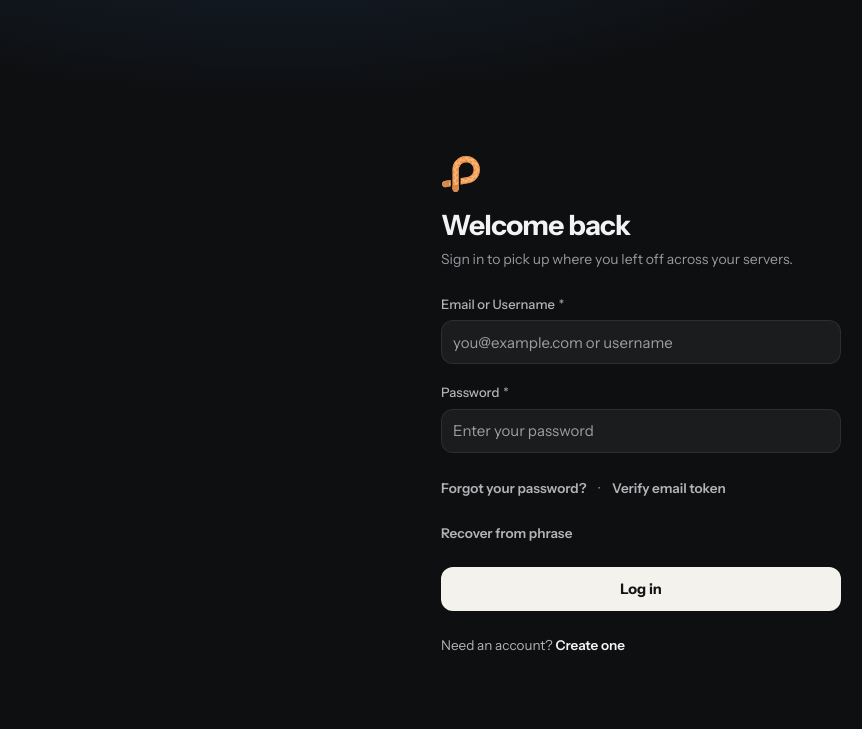
LoginPage password reset and MFA flows › blocks reset submission when password confirmation does not match
This screenshot has width=862, height=729.
Click the button "Forgot your password?": (514, 488) [441, 478, 587, 498]
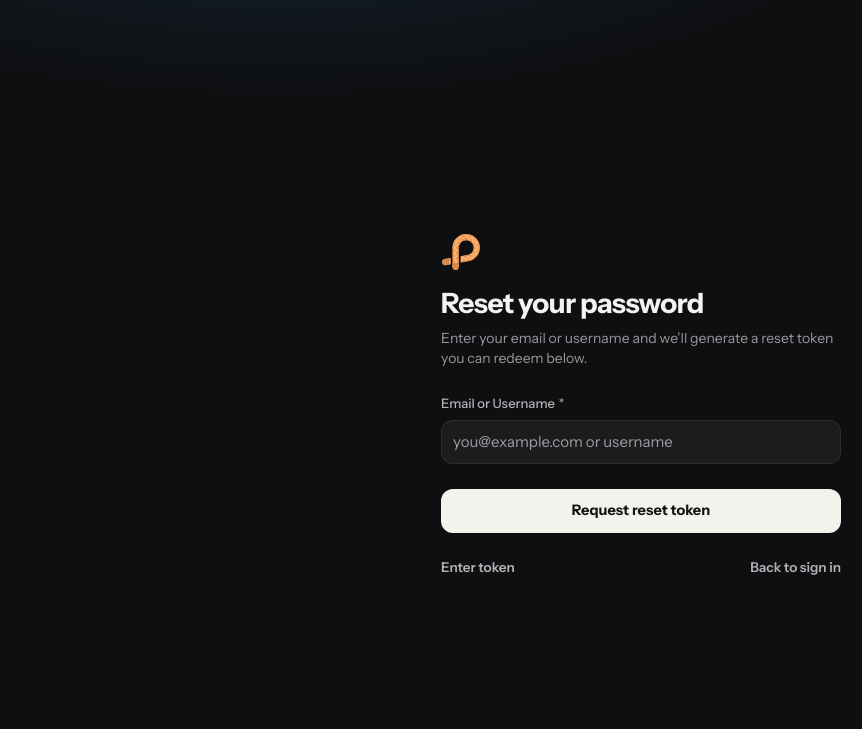
Click the button "Enter token": (478, 567) [441, 557, 515, 578]
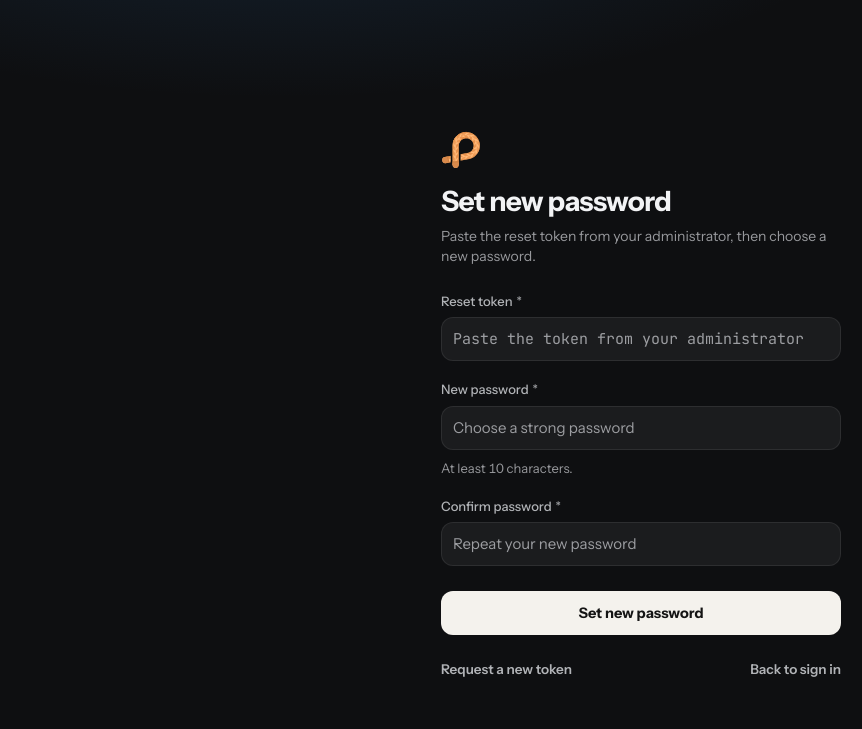
In the field labelled "Reset token *": (641, 339) [441, 317, 841, 361], type "reset-token"
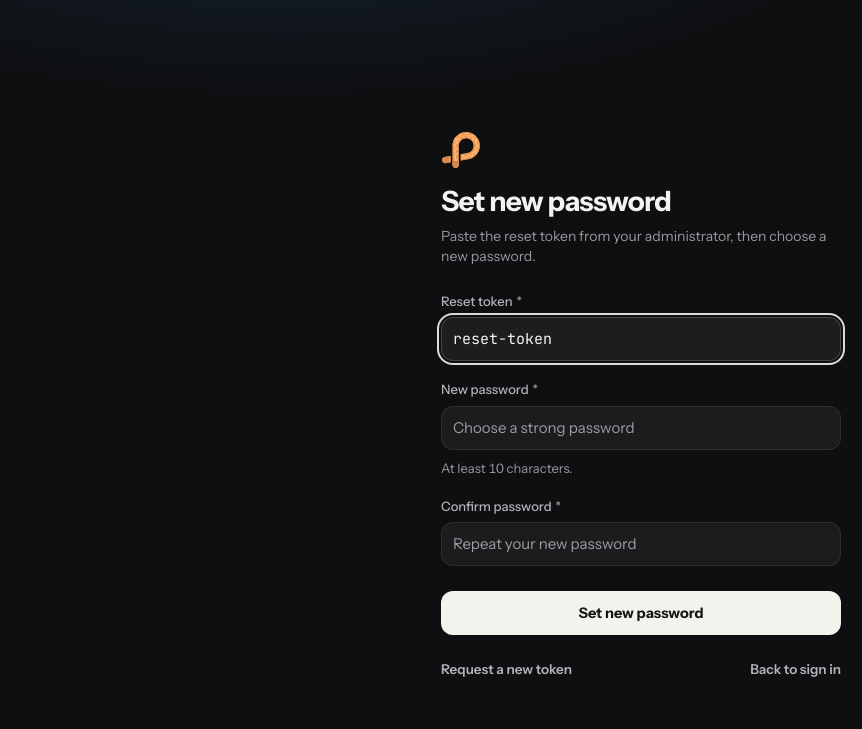
In the password field labelled "New password *": (641, 428) [441, 406, 841, 450], type "NewPassword123!"
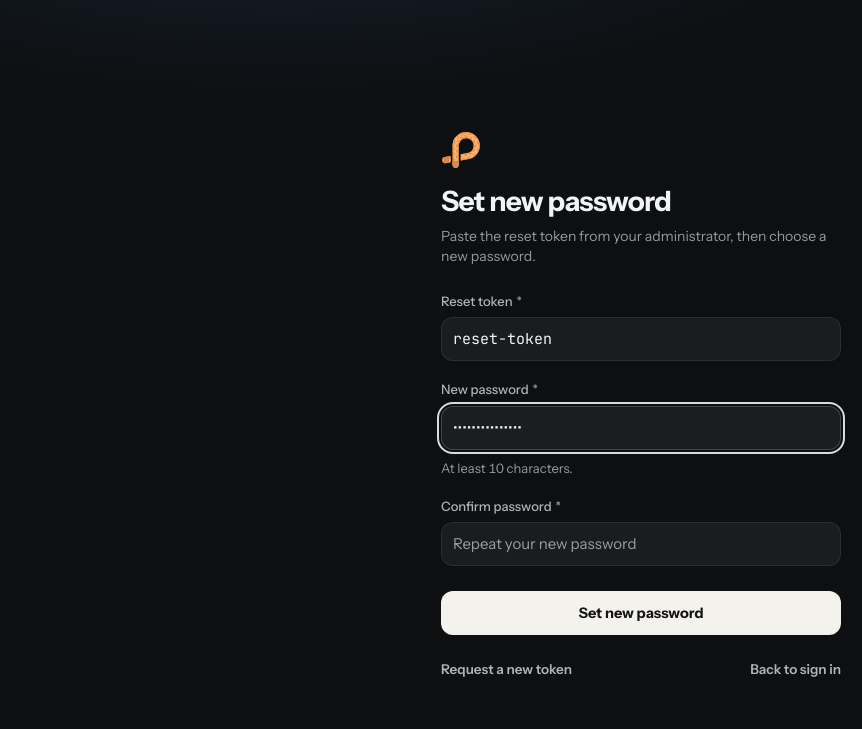
In the password field labelled "Confirm password *": (641, 544) [441, 522, 841, 566], type "DifferentPass123!"
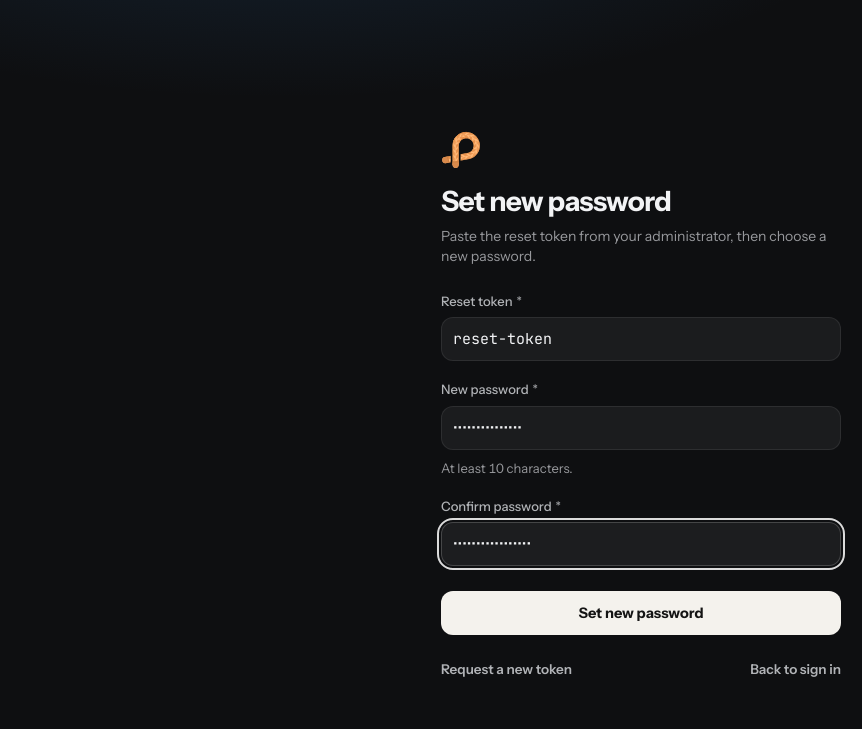
Click the button "Set new password": (641, 613) [441, 591, 841, 635]
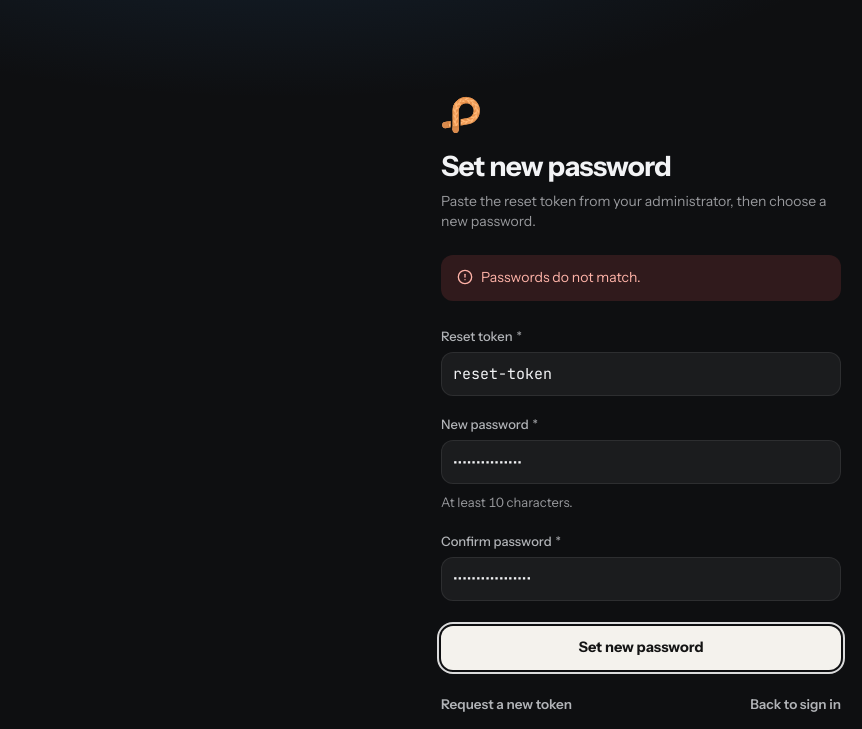
Result: the text "Passwords do not match." is shown at [481, 267, 640, 289]
